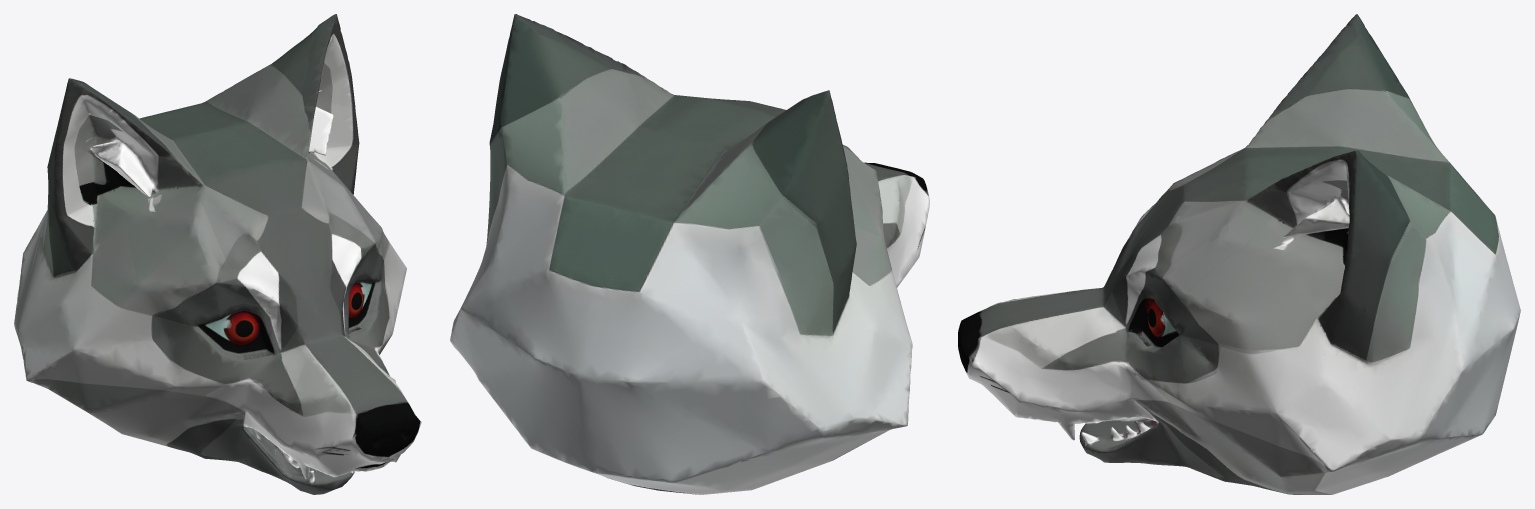
File: wolf.glb
The picture shows the model from 3 angles, left to right: view 1: azimuth 30°, elevation 25°; view 2: azimuth 150°, elevation 25°; view 3: azimuth 270°, elevation 25°; orthographic projection. The views are drawn at different scales.
Bounding box in the file's own units: 1.54 × 1.46 × 1.91.
Materials: 1 (1 with a texture image).
